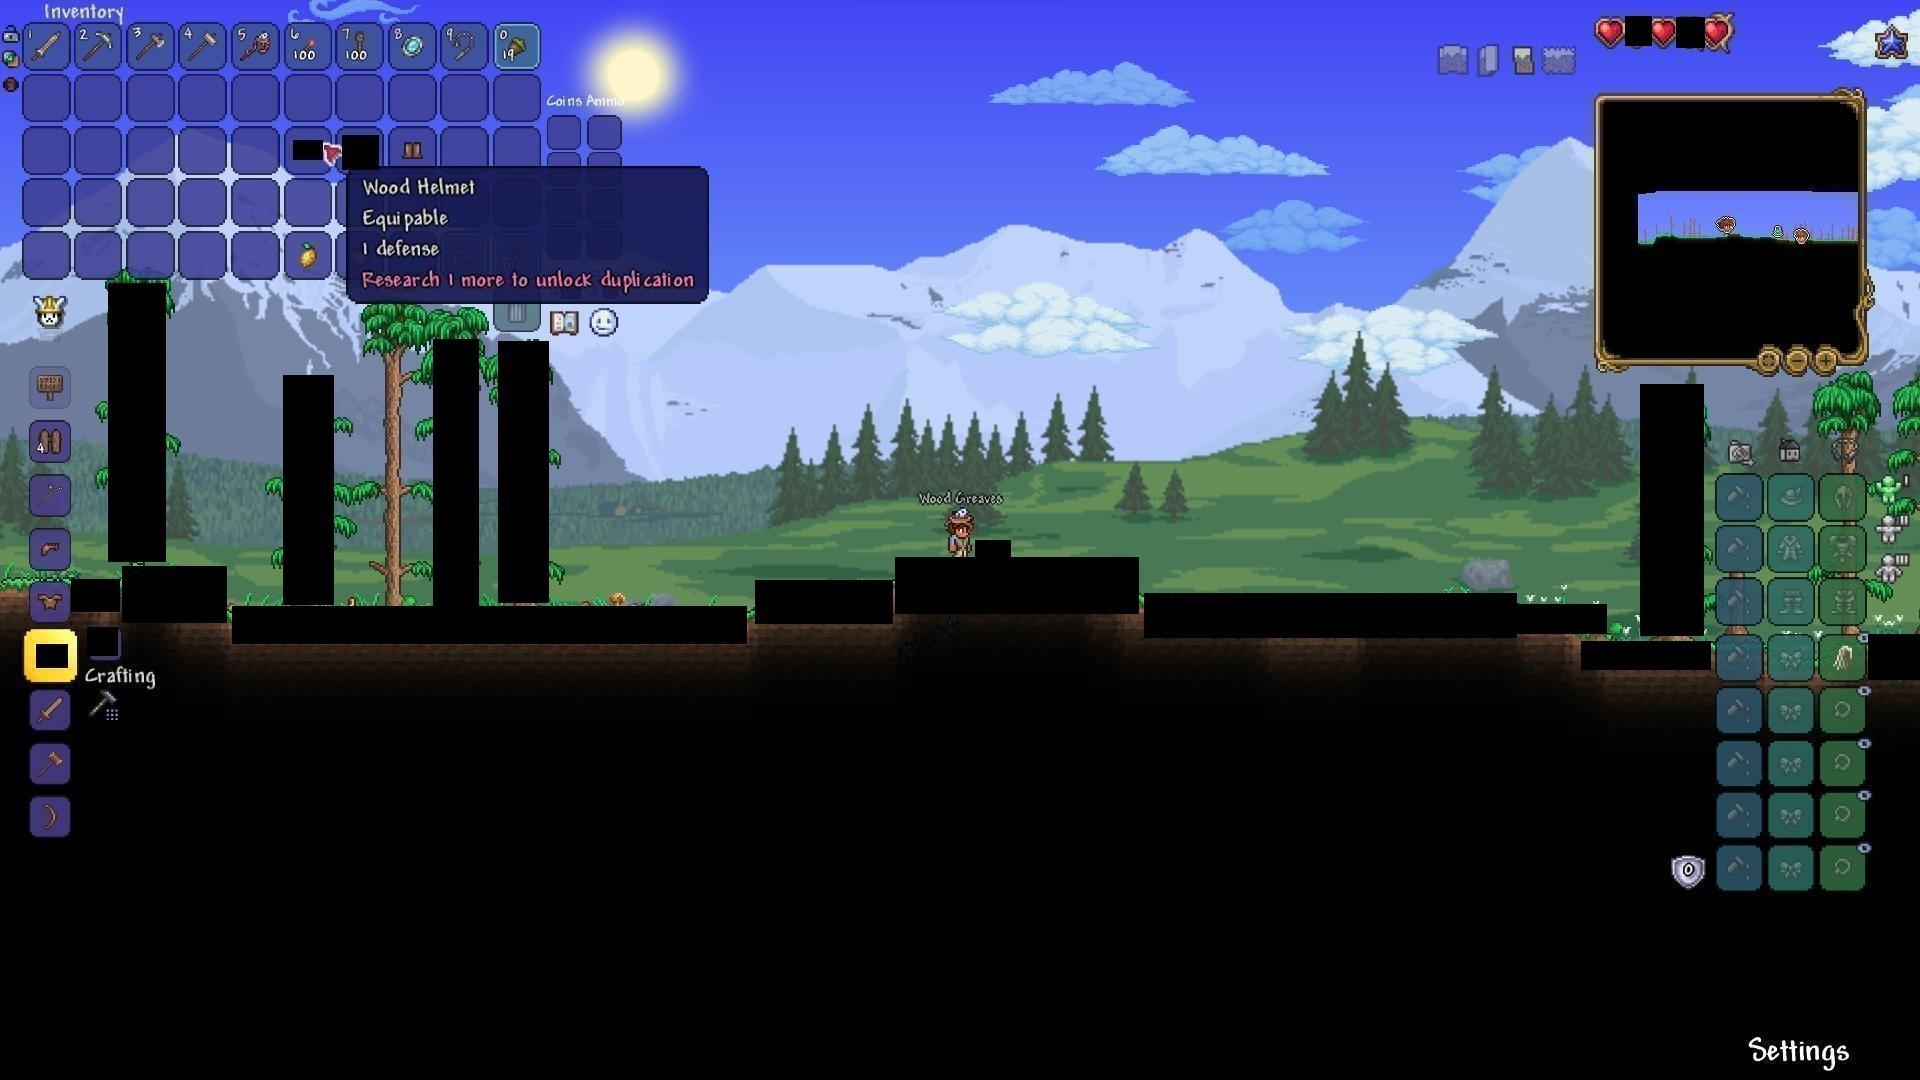breastplate: (30, 583, 66, 617)
dirt: (0, 572, 30, 609)
heart: (1702, 17, 1731, 47), (1596, 16, 1626, 44), (1648, 17, 1676, 47)
helmet: (36, 534, 70, 564)
legs: (397, 138, 429, 162)
tree: (364, 320, 415, 609)
